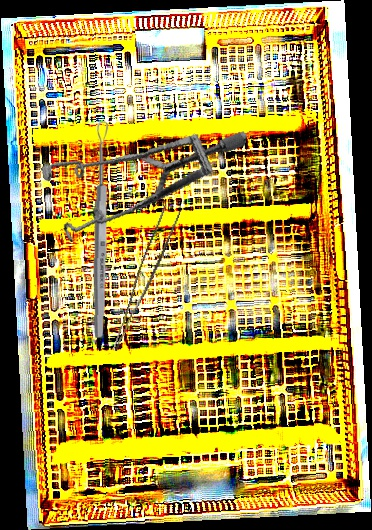Speculum: (25, 85, 249, 278)
Surgical Spoon: (92, 120, 110, 339)
Tissue Forceps: (112, 202, 182, 357)
